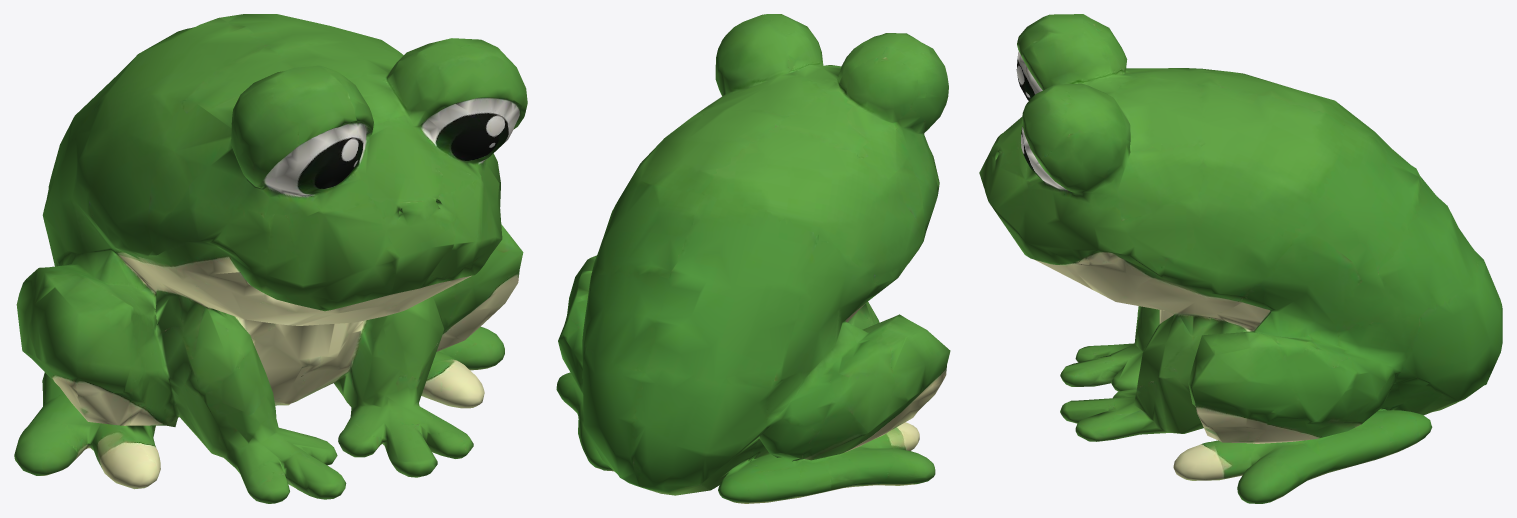
File: froggy.glb
3 views of the same model, side by side, from view 1: azimuth 30°, elevation 25°; view 2: azimuth 150°, elevation 25°; view 3: azimuth 270°, elevation 25° (orthographic). The views are drawn at different scales.
Bounding box in the file's own units: 1.65 × 1.46 × 1.9.
Materials: 1 (1 with a texture image).
